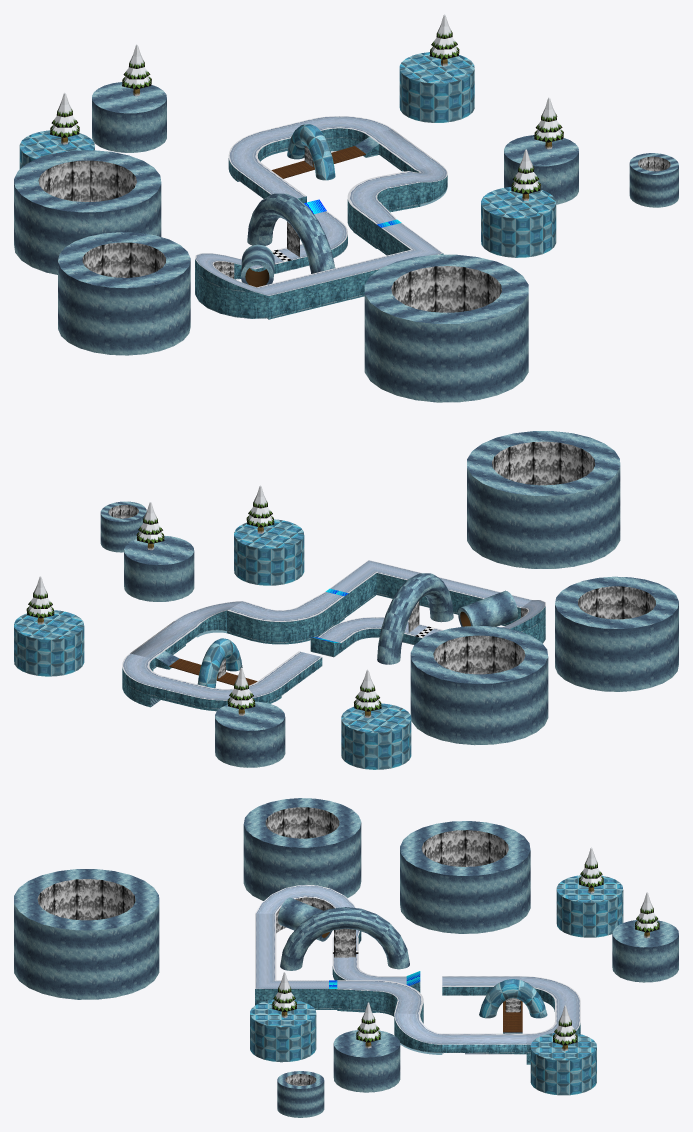
3 views of the same model, one above another, from view 1: azimuth 30°, elevation 25°; view 2: azimuth 150°, elevation 25°; view 3: azimuth 270°, elevation 25° (orthographic). The views are drawn at different scales.
Parts seen in each view (by area): view 1: model-SKP--Ice, model-SKP--Material2, model-SKP--Blocks, model-SKP--Waterfall, model-SKP--IceWall, model-SKP--Tree, model-GRP-48518-Blocks, model-SKP--Bridge; view 2: model-SKP--Ice, model-SKP--Blocks, model-SKP--Material2, model-SKP--Waterfall, model-SKP--IceWall, model-SKP--Tree, model-GRP-48518-Blocks, model-SKP--Bridge; view 3: model-SKP--Ice, model-SKP--Blocks, model-SKP--Material2, model-SKP--Waterfall, model-SKP--IceWall, model-SKP--Tree, model-GRP-48518-Blocks.
Boxes of the visible parts, <box> form: model-SKP--Ice: <box>14,82,678,402</box>; model-SKP--Material2: <box>195,116,447,295</box>; model-SKP--Blocks: <box>19,52,556,257</box>; model-SKP--Waterfall: <box>38,156,670,312</box>; model-SKP--IceWall: <box>195,128,447,319</box>; model-SKP--Tree: <box>50,14,563,201</box>; model-GRP-48518-Blocks: <box>287,124,335,180</box>; model-SKP--Bridge: <box>271,146,365,178</box>; model-SKP--Ice: <box>100,431,678,767</box>; model-SKP--Blocks: <box>14,519,411,769</box>; model-SKP--Material2: <box>122,560,545,700</box>; model-SKP--Waterfall: <box>108,441,655,674</box>; model-SKP--IceWall: <box>122,573,545,711</box>; model-SKP--Tree: <box>26,485,381,717</box>; model-GRP-48518-Blocks: <box>197,638,242,688</box>; model-SKP--Bridge: <box>169,658,257,685</box>; model-SKP--Ice: <box>14,798,678,1117</box>; model-SKP--Blocks: <box>250,875,623,1095</box>; model-SKP--Material2: <box>255,885,580,1054</box>; model-SKP--Waterfall: <box>37,807,508,1085</box>; model-SKP--IceWall: <box>255,897,580,1064</box>; model-SKP--Tree: <box>272,847,659,1051</box>; model-GRP-48518-Blocks: <box>479,979,547,1018</box>.
Size of what is drawn, in the model's own units: 84141 by 13649 by 90123.
Materials: 13 (13 with a texture image).
